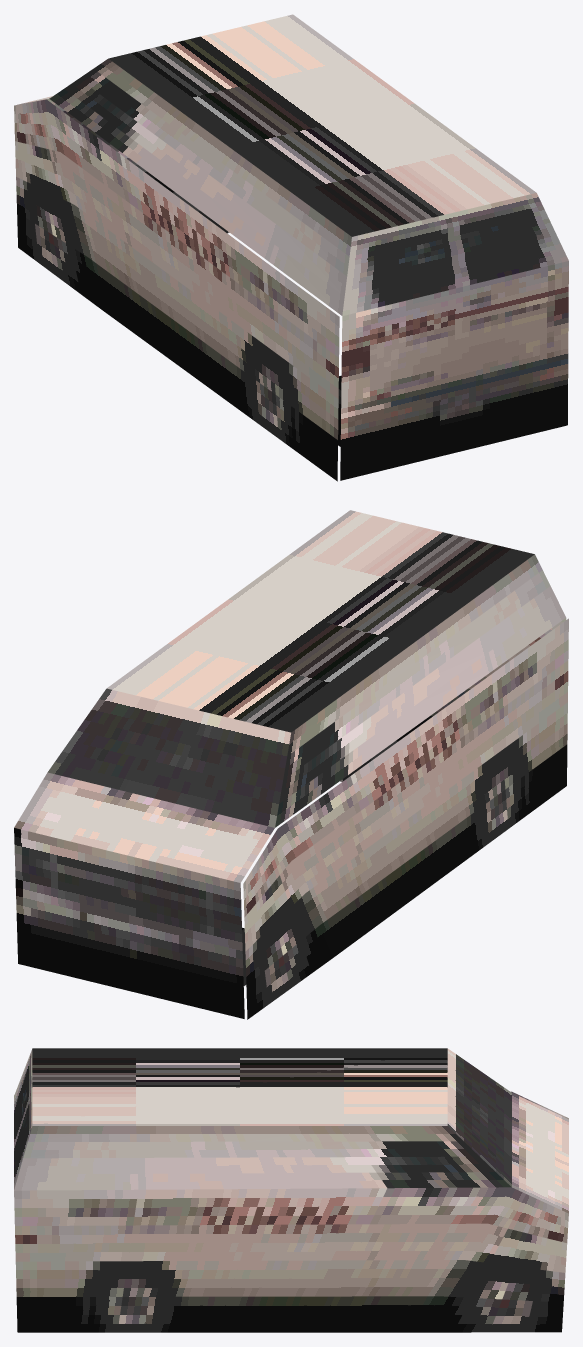
File: car-probe94.glb
The picture shows the model from 3 angles, top to bottom: view 1: azimuth 30°, elevation 25°; view 2: azimuth 150°, elevation 25°; view 3: azimuth 270°, elevation 25°; orthographic projection. The views are drawn at different scales.
Parts seen in each view (by area): view 1: car-probe94; view 2: car-probe94; view 3: car-probe94.
Part boxes in pixels (bbox=[...]): car-probe94: bbox=[14, 14, 568, 481]; car-probe94: bbox=[14, 510, 568, 1019]; car-probe94: bbox=[14, 1048, 568, 1332].
Bounding box in the file's own units: 2.02 × 1.95 × 4.94.
Materials: 12 (12 with a texture image).
